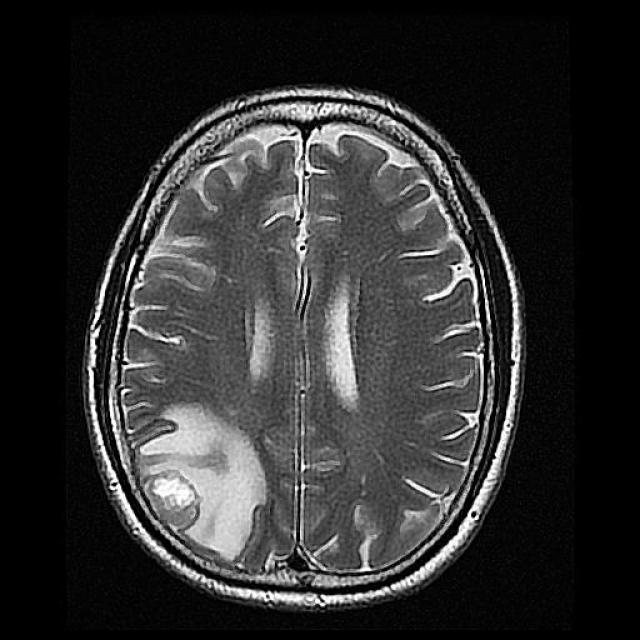Tumor-Cell: (109, 390, 255, 549)
